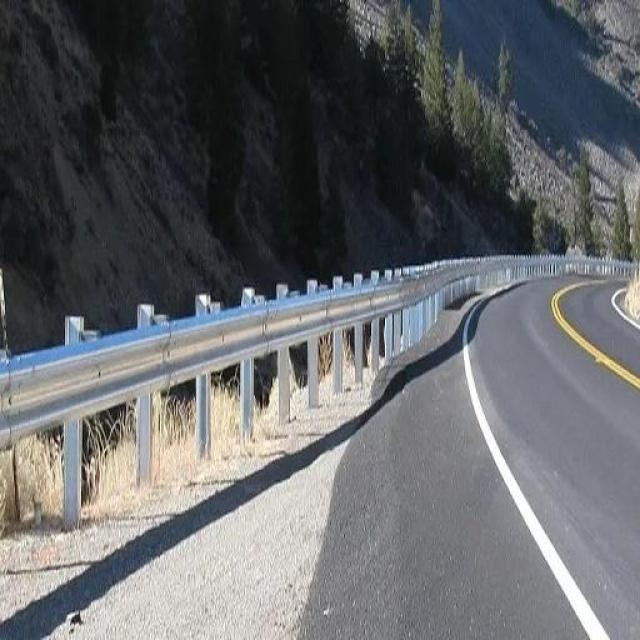Guard rail: (0, 250, 636, 558)
